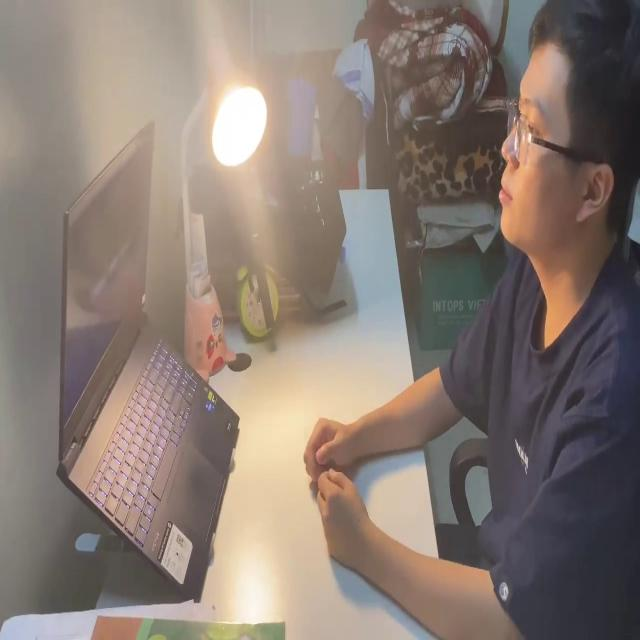book: (3, 599, 286, 640)
laptop: (54, 116, 240, 602)
student: (305, 0, 640, 640)
